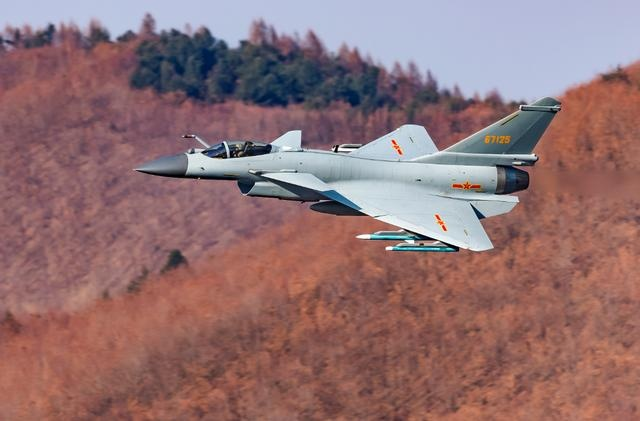airplane: (128, 93, 561, 252)
